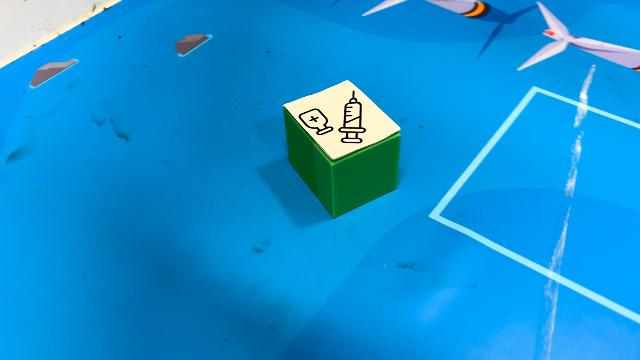syringe: (281, 77, 403, 219)
